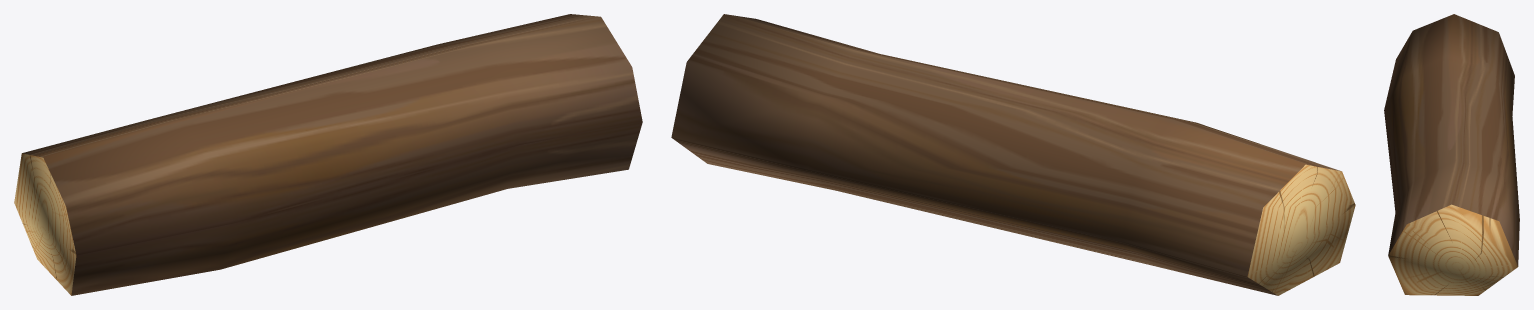
Rendered from WoodLog_01.FBX.
The picture shows the model from 3 angles, left to right: view 1: azimuth 30°, elevation 25°; view 2: azimuth 150°, elevation 25°; view 3: azimuth 270°, elevation 25°; orthographic projection. The views are drawn at different scales.
Visible parts, largest first — view 1: WoodLog_01; view 2: WoodLog_01; view 3: WoodLog_01.
Boxes of the visible parts, x1,y1,x2,y2 form: WoodLog_01: [14, 14, 642, 295]; WoodLog_01: [671, 14, 1355, 295]; WoodLog_01: [1384, 14, 1519, 295].
Bounding box in the file's own units: 1.71 × 0.3716 × 0.4929.
